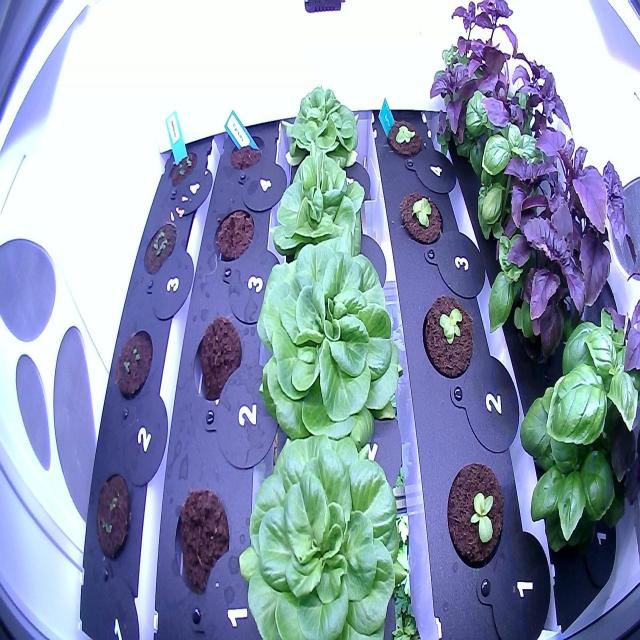germination: (88, 460, 142, 568), (111, 322, 156, 403), (135, 212, 180, 286), (162, 137, 206, 199)
pod: (166, 478, 240, 605), (188, 303, 246, 421), (205, 197, 261, 275), (222, 119, 269, 183)
young: (232, 419, 412, 640), (246, 228, 405, 453), (266, 149, 380, 283), (277, 77, 367, 182), (443, 449, 509, 575), (411, 284, 482, 384), (394, 173, 448, 250), (384, 106, 427, 160)
